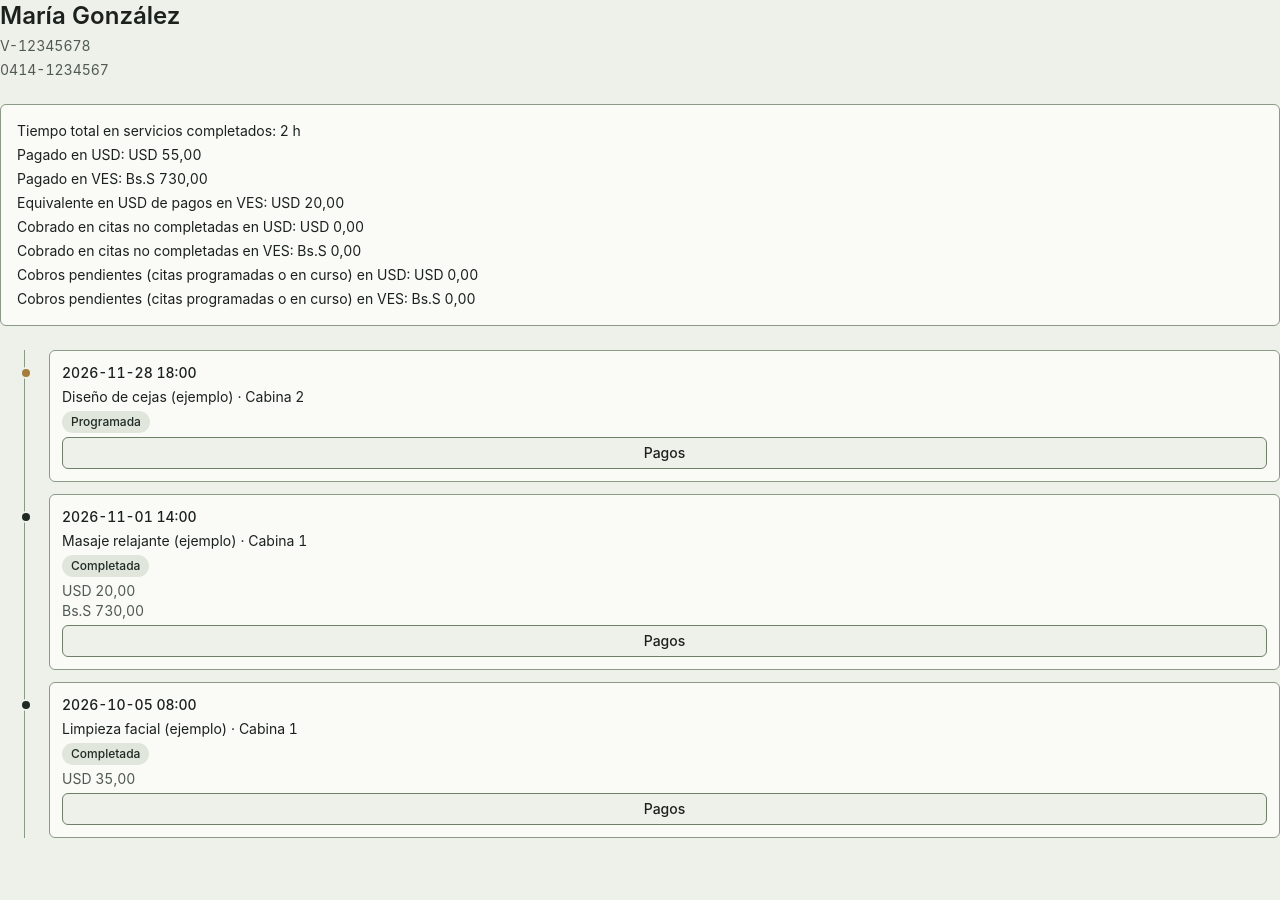
Test: ClientRecordPage › la ficha muestra el botón de pagos que abre el diálogo
The image size is (1280, 900).
Click the button "Pagos" below "2026-11-28 18:00" at (664, 453), box [62,437,1267,469]
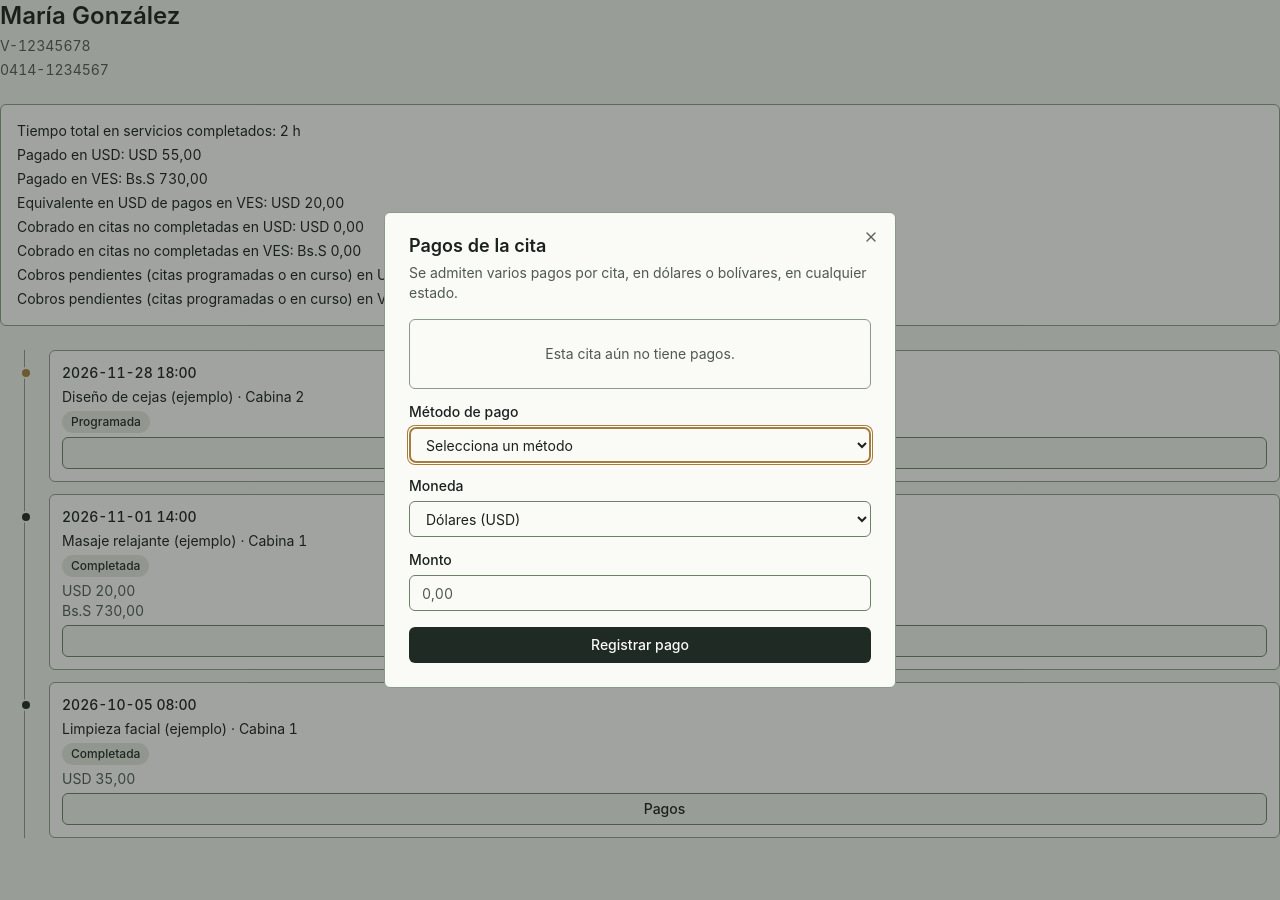
Expected: the dialog "Pagos de la cita" is shown, [384,212,896,688]
